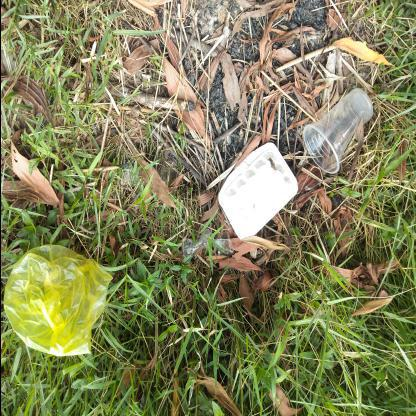kopuk: (218, 143, 298, 242)
plastik: (3, 244, 114, 359), (302, 89, 374, 175)
